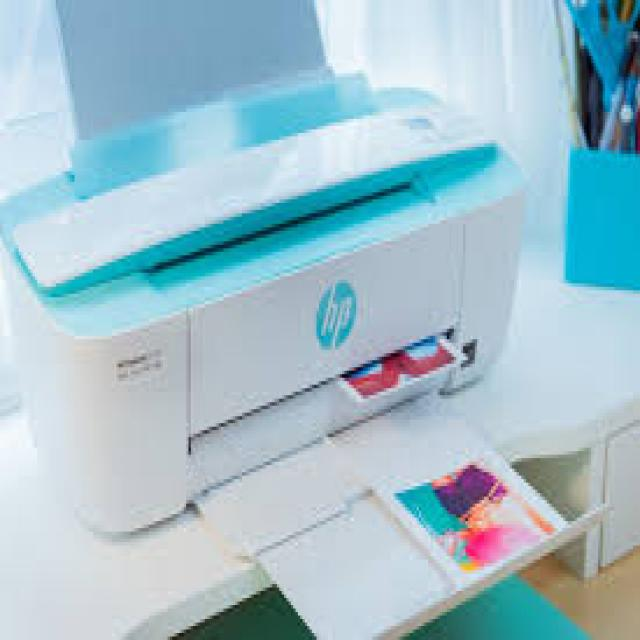printer: (1, 3, 614, 640)
